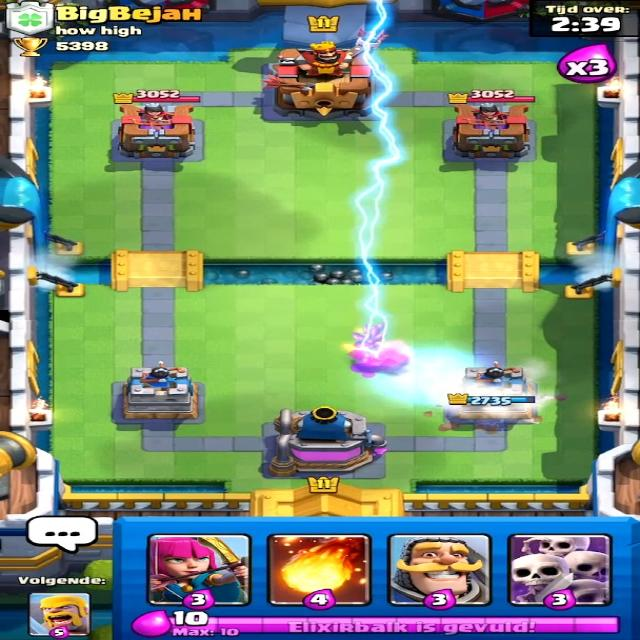Fireball_Card: (264, 530, 368, 607)
